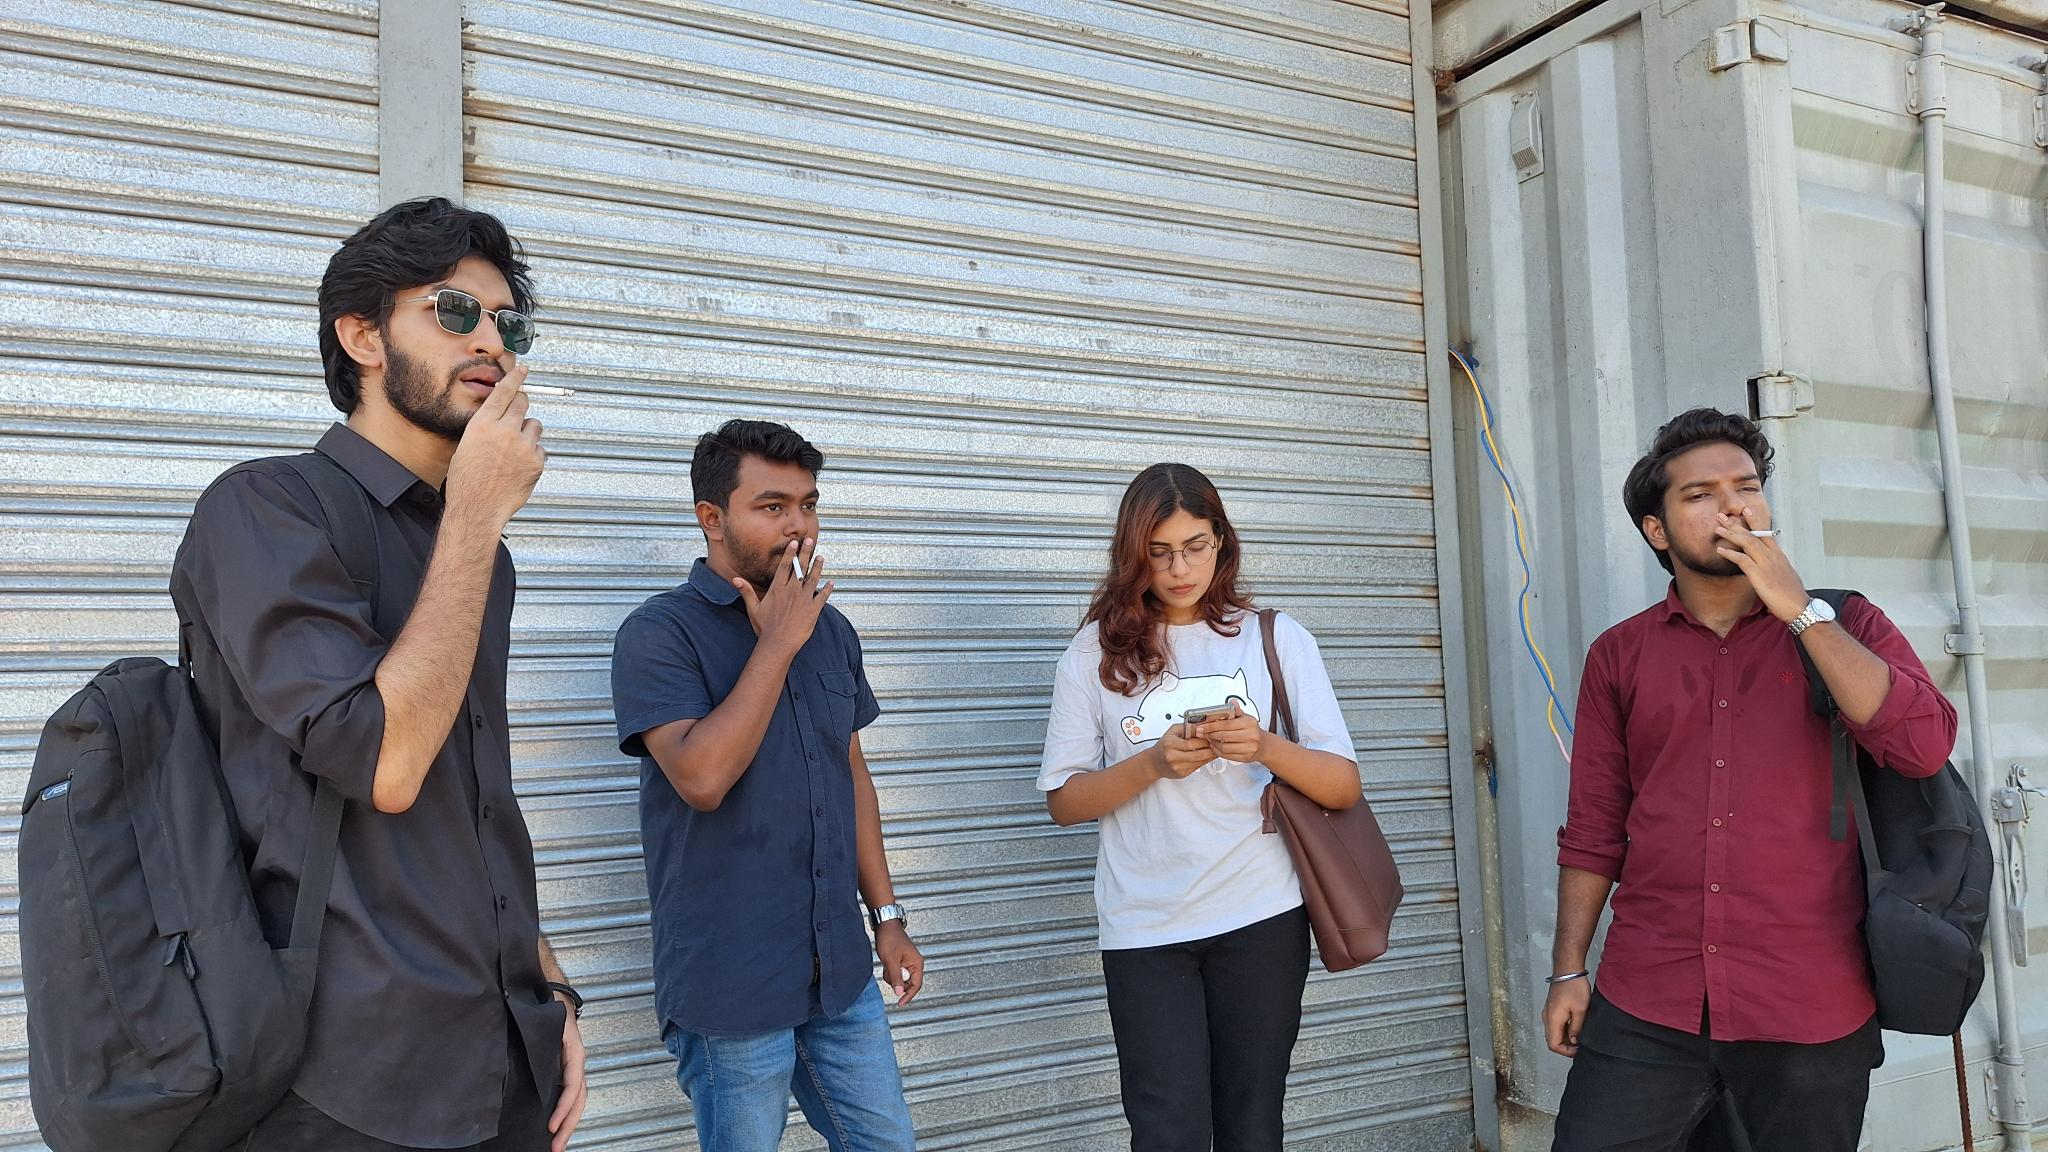cigarette: (515, 381, 578, 399), (791, 553, 806, 584), (1748, 527, 1784, 540)
nonSmoker: (1034, 463, 1402, 1152)
smoker: (18, 198, 588, 1152), (1542, 407, 1995, 1152), (612, 421, 924, 1152)
